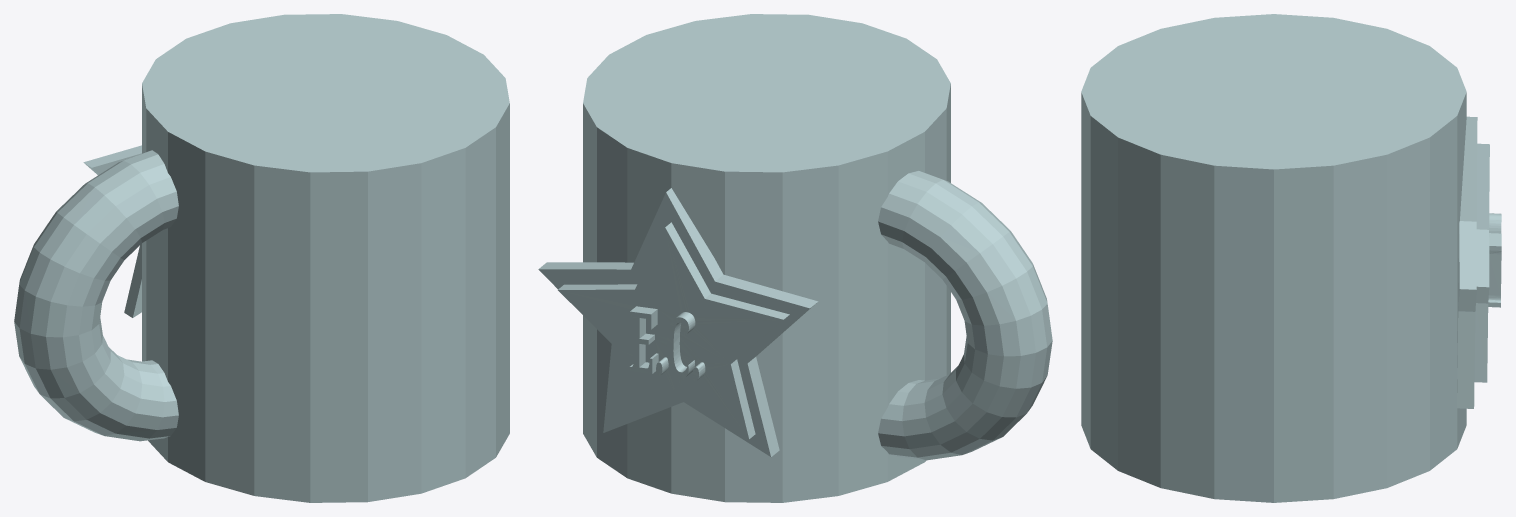
The model's file is asset.glb.
The picture shows the model from 3 angles, left to right: view 1: azimuth 30°, elevation 25°; view 2: azimuth 150°, elevation 25°; view 3: azimuth 270°, elevation 25°; orthographic projection.
Visible parts, largest first — view 1: Mesh_Mesh_head_geo.001_lambert2SG.001; view 2: Mesh_Mesh_head_geo.001_lambert2SG.001; view 3: Mesh_Mesh_head_geo.001_lambert2SG.001.
Boxes of the visible parts, x1,y1,x2,y2 form: Mesh_Mesh_head_geo.001_lambert2SG.001: [14, 14, 509, 502]; Mesh_Mesh_head_geo.001_lambert2SG.001: [538, 14, 1052, 502]; Mesh_Mesh_head_geo.001_lambert2SG.001: [1081, 14, 1501, 502].
Bounding box in the file's own units: 30 × 21 × 24.
